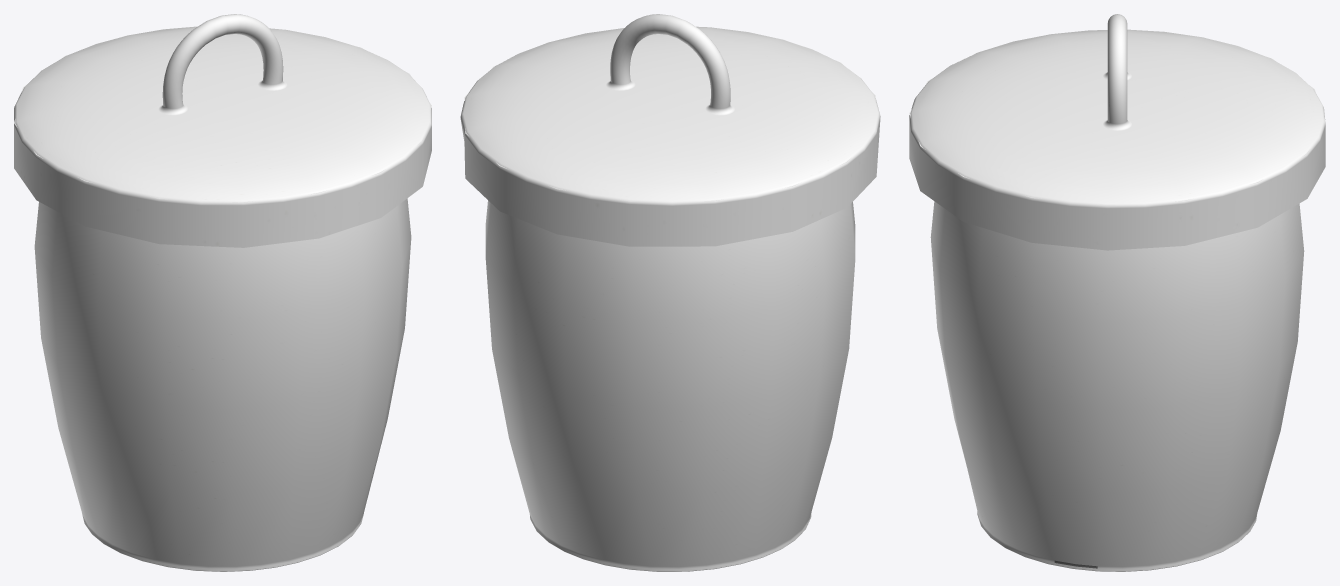
File: crucible.fbx
3 renders of one model, left to right at view 1: azimuth 30°, elevation 25°; view 2: azimuth 150°, elevation 25°; view 3: azimuth 270°, elevation 25°, orthographic.
Visible parts, largest first — view 1: 物件_1, 物件_16, 物件_13, 物件_15, 物件_14, 物件_4, 物件_6; view 2: 物件_1, 物件_16, 物件_13, 物件_15, 物件_14, 物件_6, 物件_4; view 3: 物件_1, 物件_16, 物件_13, 物件_14, 物件_15, 物件_6, 物件_4.
Boxes of the visible parts, <box> form: 物件_1: <box>34,198,411,566</box>; 物件_16: <box>17,26,428,199</box>; 物件_13: <box>14,35,431,247</box>; 物件_15: <box>162,14,283,108</box>; 物件_14: <box>14,56,431,205</box>; 物件_4: <box>82,513,363,568</box>; 物件_6: <box>83,513,363,571</box>; 物件_1: <box>485,200,855,566</box>; 物件_16: <box>463,26,877,200</box>; 物件_13: <box>460,39,880,246</box>; 物件_15: <box>610,14,730,108</box>; 物件_14: <box>460,52,880,205</box>; 物件_6: <box>530,512,811,571</box>; 物件_4: <box>529,514,809,569</box>; 物件_1: <box>930,201,1304,566</box>; 物件_16: <box>912,29,1322,202</box>; 物件_13: <box>909,37,1325,250</box>; 物件_14: <box>909,53,1325,208</box>; 物件_15: <box>1107,14,1127,123</box>; 物件_6: <box>977,511,1256,571</box>; 物件_4: <box>979,518,1255,569</box>.
Bounding box in the file's own units: 42 × 42 × 54.83.
2 materials, 1 textured.
